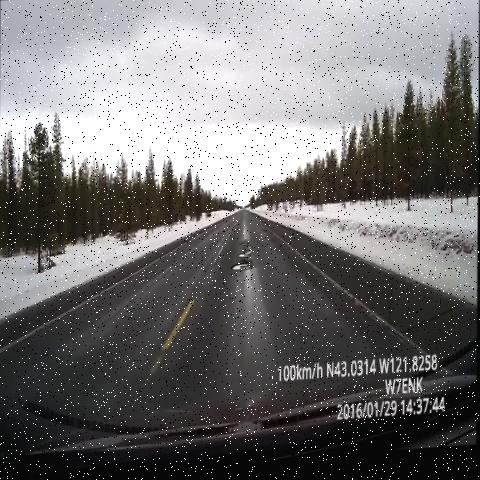pothole: (228, 236, 258, 286)
